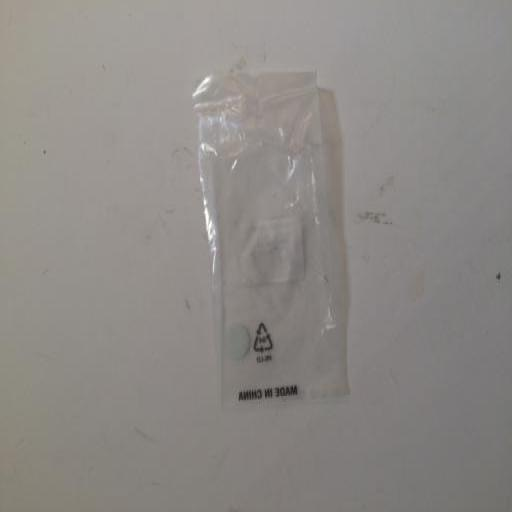waste: (188, 60, 368, 420)
